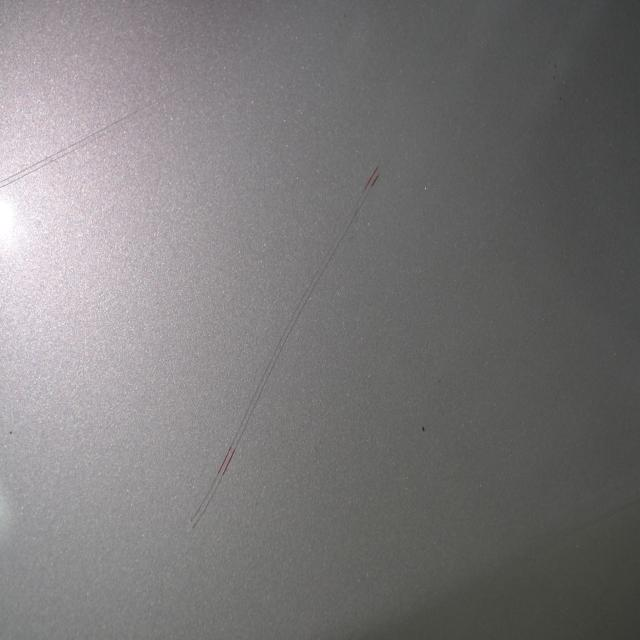dirt: (417, 417, 429, 438)
scratch: (186, 151, 382, 539), (1, 76, 172, 201)
